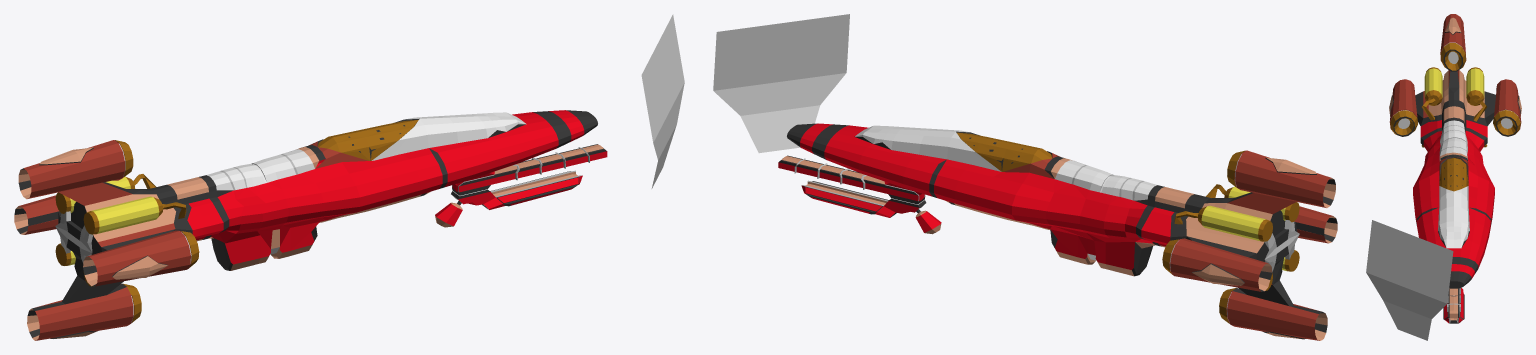
File: AllUpg.fbx
The picture shows the model from 3 angles, left to right: view 1: azimuth 30°, elevation 25°; view 2: azimuth 150°, elevation 25°; view 3: azimuth 270°, elevation 25°; orthographic projection. The views are drawn at different scales.
Visible parts, largest first — view 1: Todo, AllUpgShield; view 2: Todo, AllUpgShield; view 3: Todo, AllUpgShield.
Part boxes in pixels (x1=…): Todo: x1=14, y1=110, x2=607, y2=340; AllUpgShield: x1=641, y1=14, x2=684, y2=188; Todo: x1=778, y1=123, x2=1337, y2=340; AllUpgShield: x1=713, y1=14, x2=849, y2=153; Todo: x1=1389, y1=14, x2=1521, y2=323; AllUpgShield: x1=1366, y1=220, x2=1453, y2=340.
Size of the model in its own units: 534 by 144 by 148.
